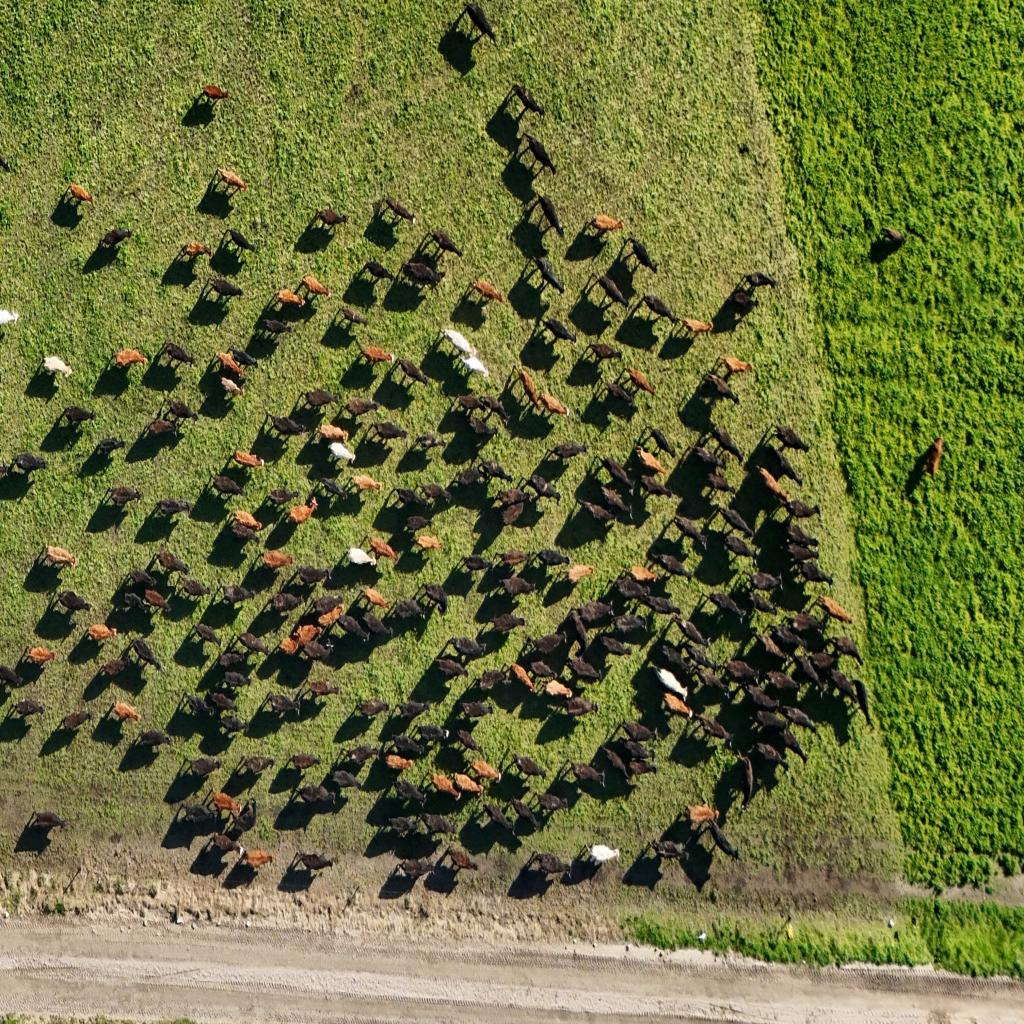cow: (768, 442, 804, 489), (464, 0, 500, 47), (695, 712, 736, 752), (598, 450, 635, 493), (597, 482, 637, 521), (755, 463, 792, 505), (814, 590, 854, 628), (703, 370, 743, 408), (358, 610, 396, 650), (746, 741, 792, 774), (771, 421, 813, 457), (711, 423, 747, 465), (515, 80, 550, 123), (526, 134, 560, 178), (794, 653, 825, 701), (775, 727, 811, 767), (674, 513, 710, 552), (708, 820, 739, 865), (765, 617, 807, 650), (828, 664, 858, 710), (642, 288, 678, 326), (708, 590, 746, 626), (734, 752, 756, 814), (381, 190, 415, 230), (646, 421, 679, 462), (752, 630, 789, 666), (742, 682, 780, 717), (578, 497, 617, 531), (718, 502, 754, 538), (266, 687, 303, 722), (428, 226, 466, 260), (781, 702, 819, 736), (130, 636, 164, 674), (596, 269, 628, 309), (653, 667, 688, 703), (392, 596, 428, 631), (569, 758, 607, 791), (626, 362, 658, 401), (698, 666, 732, 702), (636, 442, 670, 478), (266, 410, 308, 439), (678, 610, 710, 648), (722, 534, 760, 566), (656, 551, 694, 583), (852, 676, 874, 731), (517, 362, 542, 410), (448, 631, 489, 660), (396, 355, 432, 388), (57, 587, 95, 618), (524, 474, 562, 505), (429, 770, 462, 805), (537, 388, 572, 421), (339, 615, 372, 650), (766, 666, 802, 698), (369, 533, 401, 569), (433, 656, 469, 688), (535, 258, 567, 294), (785, 610, 826, 638), (690, 443, 727, 474), (405, 259, 442, 290), (566, 656, 604, 686), (180, 800, 219, 829), (831, 635, 864, 669), (641, 590, 681, 618), (184, 690, 216, 725), (512, 752, 549, 782), (596, 630, 634, 659), (539, 194, 564, 238), (620, 716, 659, 744), (483, 452, 514, 487), (547, 312, 578, 347), (534, 851, 574, 878), (298, 782, 338, 809), (43, 540, 79, 570), (630, 238, 660, 274), (725, 658, 762, 687), (483, 800, 516, 832), (447, 843, 480, 875), (162, 338, 196, 369), (796, 560, 835, 587), (212, 473, 251, 500), (744, 568, 784, 594), (256, 314, 296, 340), (268, 590, 305, 618), (228, 225, 261, 256), (397, 695, 431, 725), (509, 662, 538, 697), (513, 798, 541, 834), (579, 600, 615, 628), (527, 633, 569, 657), (364, 256, 400, 284), (296, 847, 336, 872), (657, 642, 689, 673), (210, 786, 243, 816), (483, 393, 513, 426), (240, 752, 278, 778), (14, 450, 52, 476), (500, 574, 538, 600), (394, 779, 428, 808), (640, 474, 674, 503), (419, 478, 454, 506), (753, 708, 789, 735), (567, 607, 589, 651), (339, 745, 381, 768), (654, 839, 691, 865), (604, 746, 630, 783), (32, 808, 69, 834), (122, 591, 152, 623), (606, 380, 638, 410), (472, 278, 506, 306), (237, 630, 271, 658), (222, 580, 256, 608), (395, 484, 429, 512), (613, 576, 651, 601), (316, 204, 351, 231), (422, 812, 458, 838), (424, 578, 450, 614), (214, 348, 245, 378), (158, 546, 189, 576), (442, 327, 474, 356), (300, 386, 337, 411), (167, 396, 200, 424), (660, 693, 694, 720), (612, 611, 650, 635), (330, 767, 365, 793), (586, 842, 622, 867), (182, 239, 218, 264), (194, 620, 224, 650), (373, 418, 409, 443), (453, 770, 484, 799), (878, 223, 910, 251), (392, 732, 424, 760), (416, 430, 448, 458), (745, 269, 778, 296), (110, 699, 143, 726), (209, 276, 246, 300), (588, 212, 625, 236), (744, 591, 778, 617), (536, 792, 570, 818), (350, 470, 384, 496), (302, 639, 336, 665), (360, 343, 394, 369), (355, 695, 390, 720), (100, 656, 135, 681), (145, 418, 180, 443), (491, 613, 526, 638), (398, 856, 436, 879), (228, 802, 257, 832), (290, 500, 320, 529), (320, 474, 350, 503), (478, 668, 509, 696), (187, 755, 223, 779), (226, 525, 262, 549), (296, 562, 332, 586), (231, 506, 264, 532), (537, 543, 570, 569), (686, 801, 720, 826), (212, 830, 241, 859), (680, 313, 715, 337), (455, 726, 483, 756), (25, 643, 60, 667), (107, 483, 142, 507), (360, 584, 390, 612), (784, 498, 822, 520), (704, 470, 736, 496), (471, 759, 503, 785), (262, 546, 294, 572), (113, 347, 149, 370), (231, 447, 267, 470), (102, 225, 135, 250), (308, 677, 341, 702), (60, 708, 94, 732), (217, 167, 251, 191), (9, 698, 46, 720), (136, 728, 173, 750), (343, 397, 380, 419), (346, 542, 375, 570), (458, 390, 486, 419), (43, 353, 74, 379), (87, 621, 118, 647), (340, 304, 371, 330), (126, 565, 158, 590), (928, 436, 946, 480), (240, 849, 276, 871), (387, 814, 421, 837), (554, 438, 588, 461), (461, 354, 491, 380), (497, 482, 528, 507), (470, 420, 501, 445), (382, 751, 414, 775), (462, 550, 494, 574), (562, 698, 600, 718), (266, 486, 299, 509), (302, 273, 330, 300), (146, 590, 173, 618), (588, 341, 624, 362), (792, 522, 821, 548), (229, 344, 258, 370), (62, 404, 96, 426), (315, 593, 346, 617), (218, 712, 250, 735), (96, 436, 128, 459), (318, 419, 350, 442), (729, 292, 761, 315), (318, 602, 344, 630), (683, 644, 712, 669), (721, 355, 755, 376), (788, 540, 819, 563), (69, 182, 96, 208), (277, 287, 305, 312), (530, 657, 559, 681), (330, 440, 359, 464), (404, 511, 434, 534), (418, 722, 449, 744), (180, 578, 211, 600), (157, 496, 191, 516), (0, 662, 26, 688), (811, 646, 836, 673), (545, 676, 573, 700), (223, 670, 255, 691), (564, 562, 596, 583), (626, 759, 659, 779), (461, 699, 494, 719), (278, 632, 304, 657), (218, 376, 245, 400), (456, 464, 483, 488), (293, 751, 322, 773), (502, 502, 526, 528), (213, 690, 240, 713), (201, 80, 229, 102), (502, 548, 532, 568), (297, 622, 323, 645), (622, 742, 655, 760), (630, 563, 658, 584), (218, 653, 248, 672), (418, 533, 445, 554), (0, 307, 21, 329)
